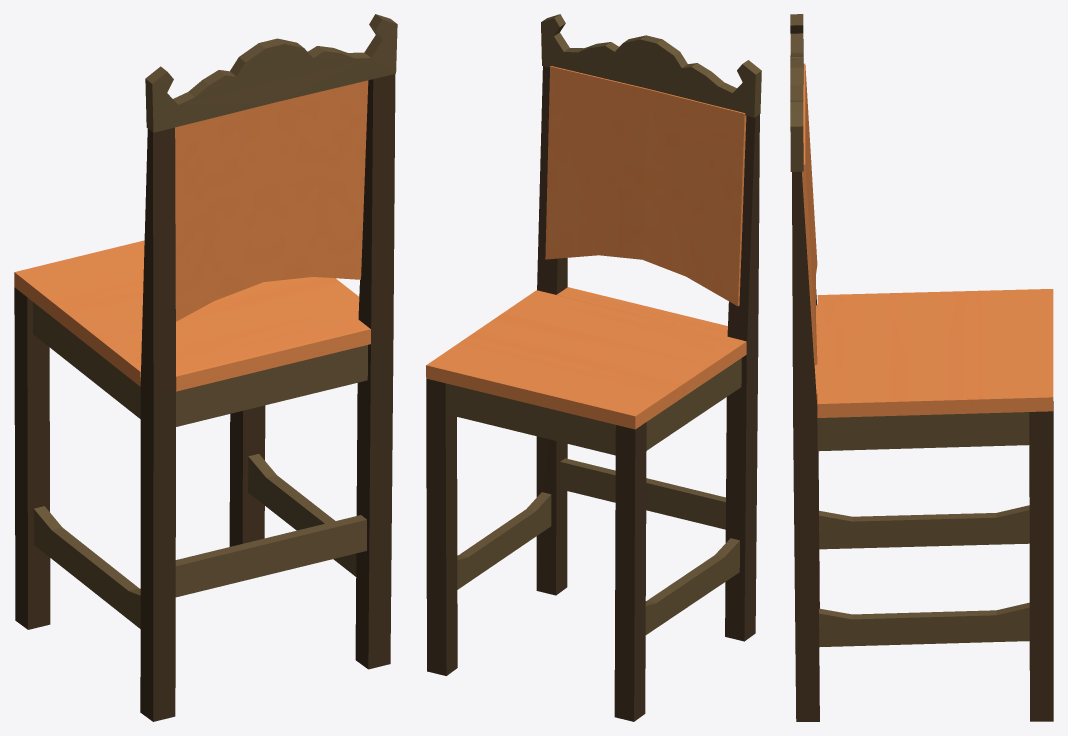
The model's file is chair_1.FBX.
3 views of the same model, side by side, from view 1: azimuth 30°, elevation 25°; view 2: azimuth 150°, elevation 25°; view 3: azimuth 270°, elevation 25° (orthographic). The views are drawn at different scales.
Visible parts, largest first — view 1: chair_1; view 2: chair_1; view 3: chair_1.
Part boxes in pixels (x1,y1,x2,y2): chair_1: [14, 14, 397, 721]; chair_1: [426, 14, 761, 721]; chair_1: [790, 14, 1053, 721].
Size of the model in its own units: 17.06 by 43.2 by 17.04.
